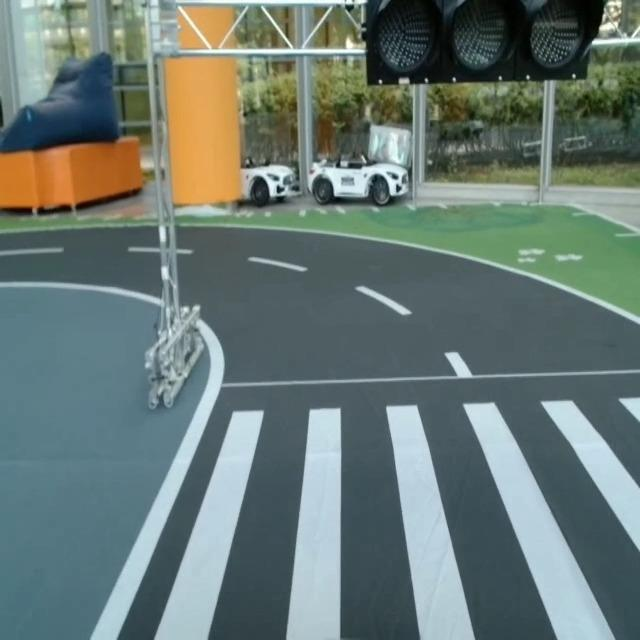traffic-light: (363, 0, 613, 91)
